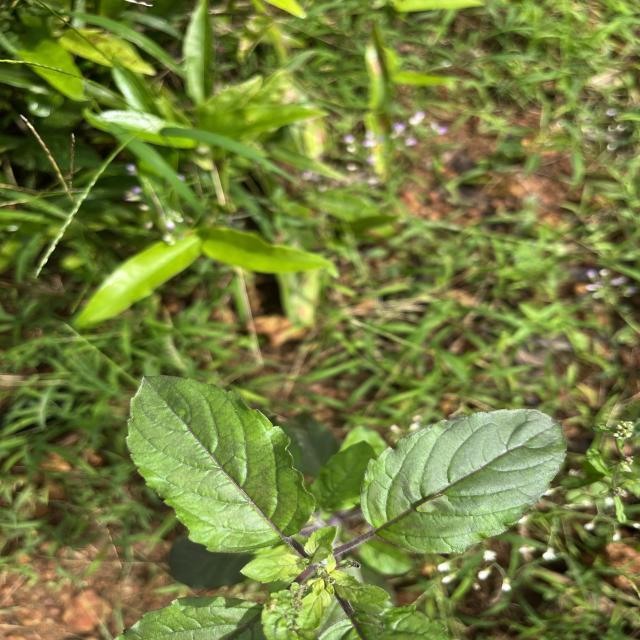Ocimum tenuiflorum: (124, 372, 319, 554), (360, 406, 570, 556)
